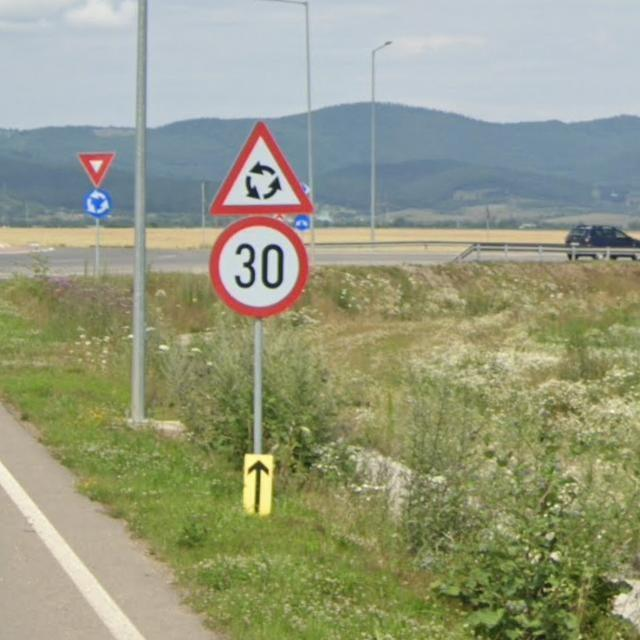forb_speed_over_30: (206, 214, 311, 320)
prio_give_way: (76, 151, 119, 189)
